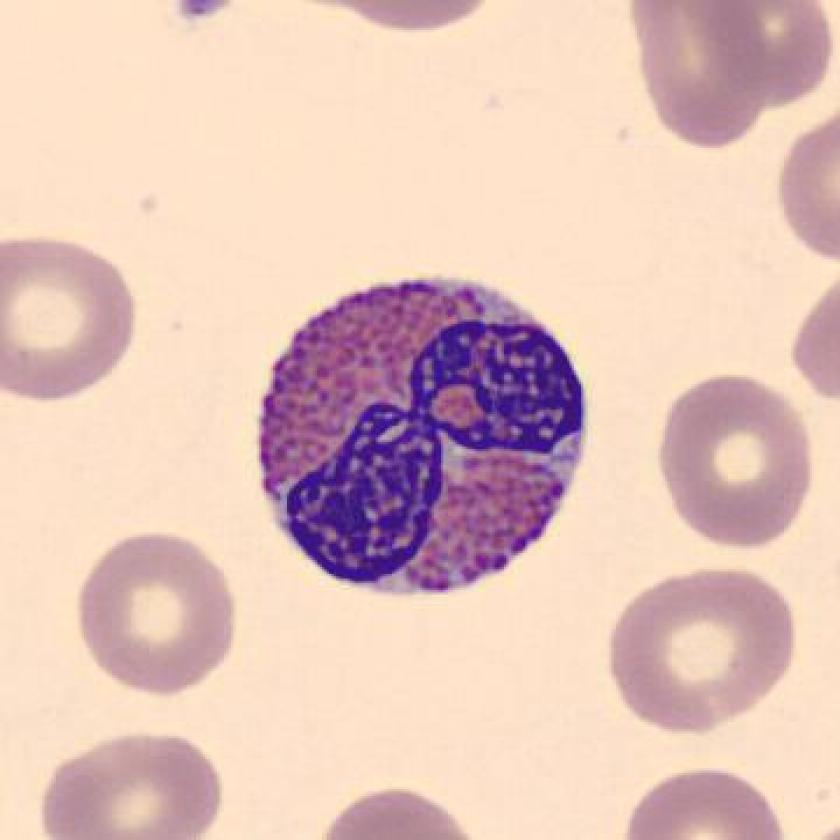eosinophil: (251, 262, 598, 612)
